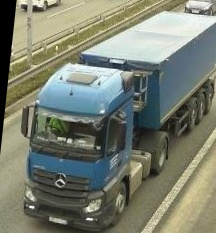van: (17, 0, 66, 14)
